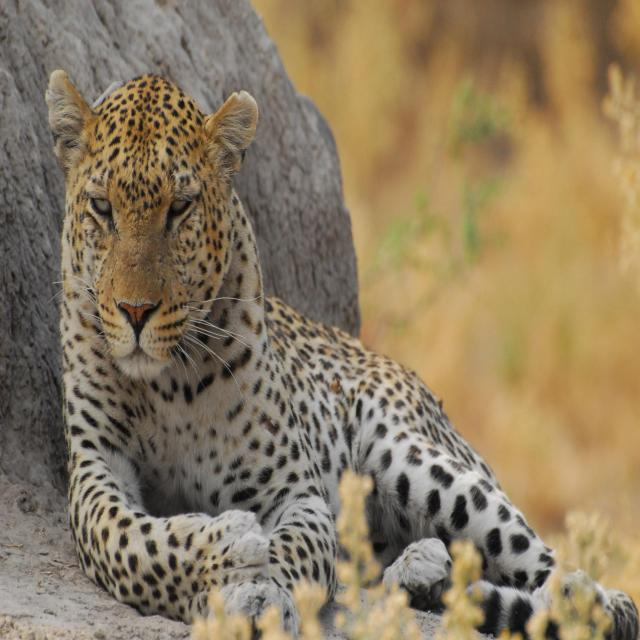Leopard: (47, 73, 639, 623)
